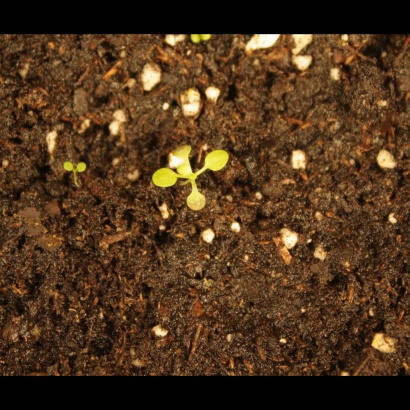leaf: (183, 183, 212, 215), (148, 165, 181, 192), (203, 146, 231, 177), (76, 159, 99, 182), (53, 159, 76, 182), (176, 32, 199, 55), (201, 28, 224, 51), (172, 141, 195, 164), (176, 162, 199, 185)
